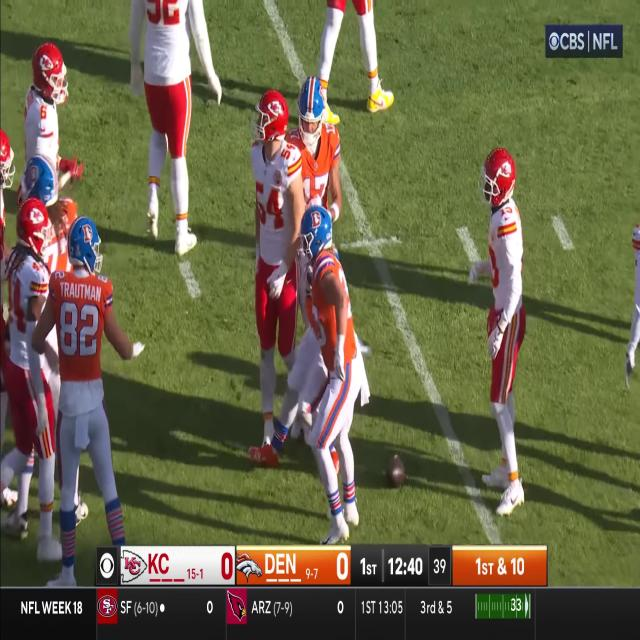Player: (45, 211, 115, 587), (300, 205, 364, 536), (125, 0, 205, 260), (477, 150, 529, 519), (251, 90, 299, 470), (6, 202, 56, 562), (23, 42, 71, 155), (300, 75, 338, 206)
